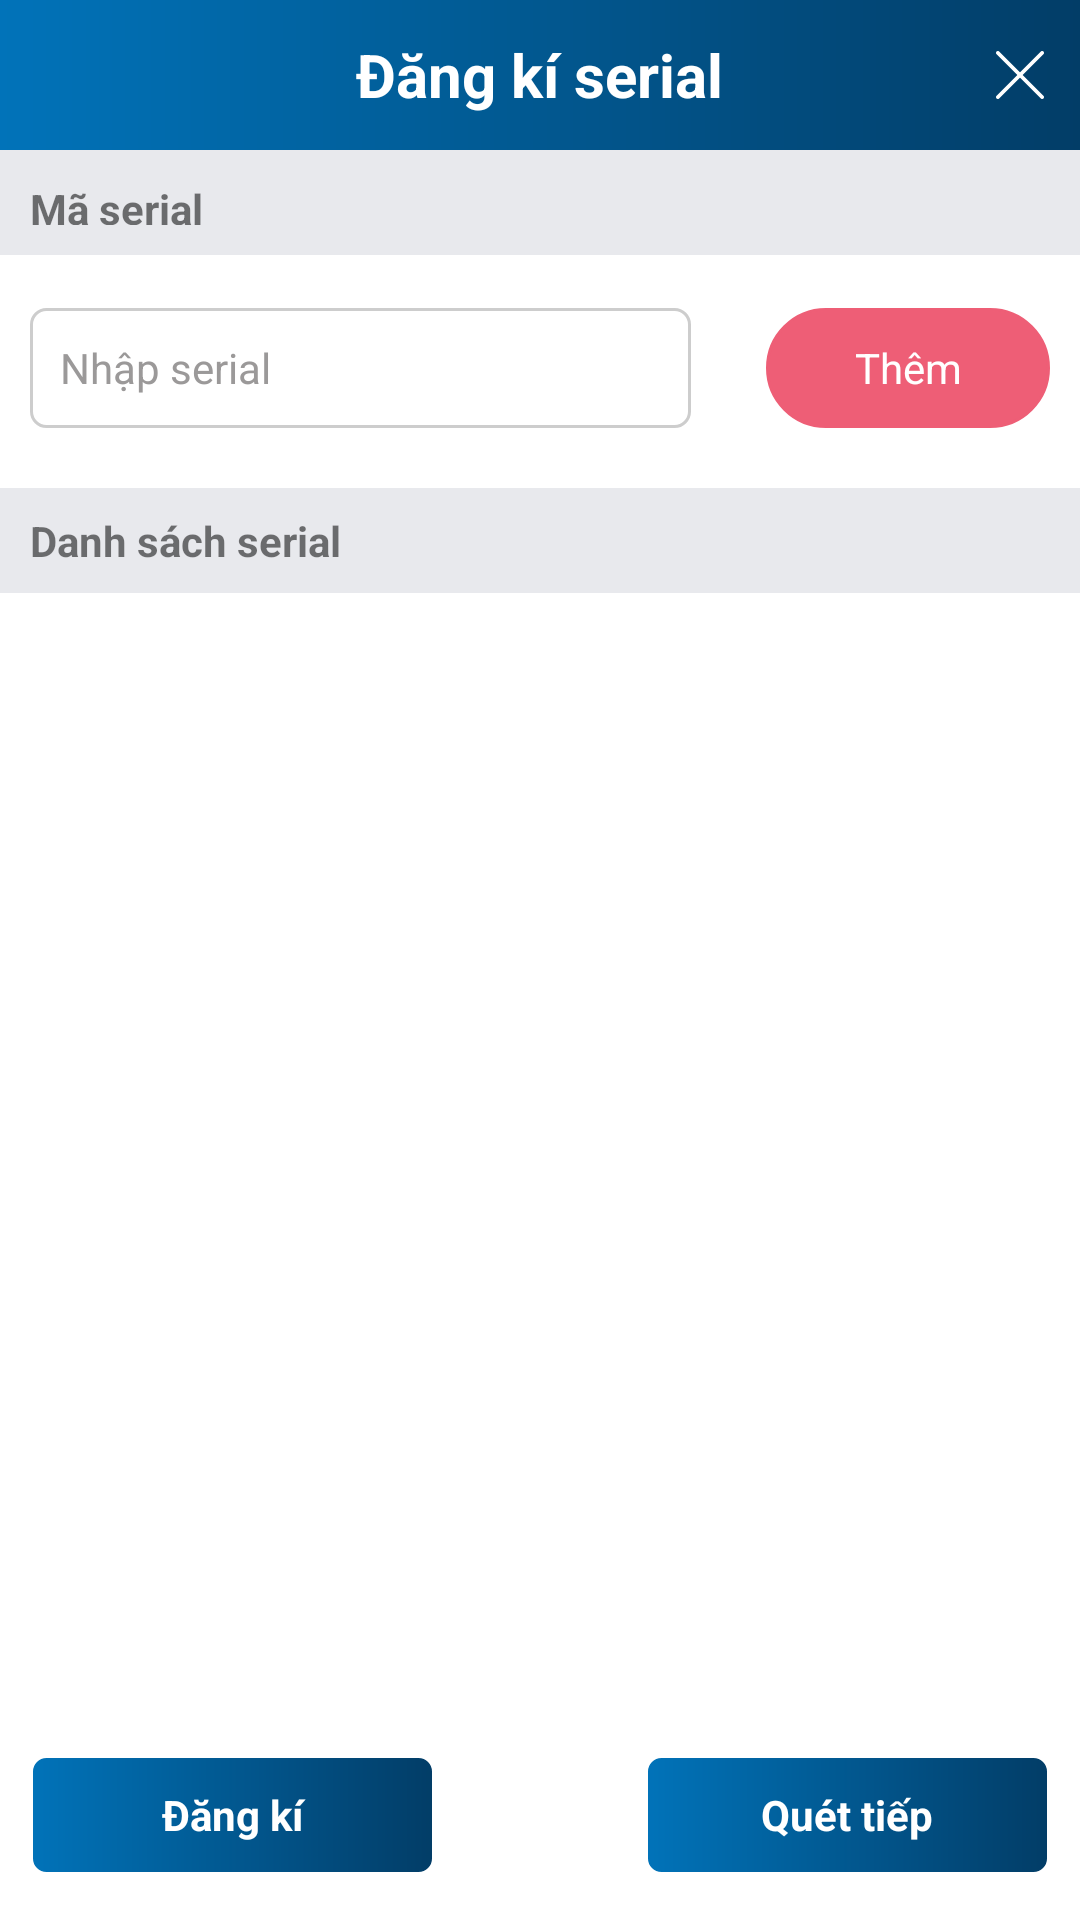

Icons on this 1080px×1920px Android screen, each with its box as (x1, y1, x2, y2):
close: (996, 51, 1044, 99)
